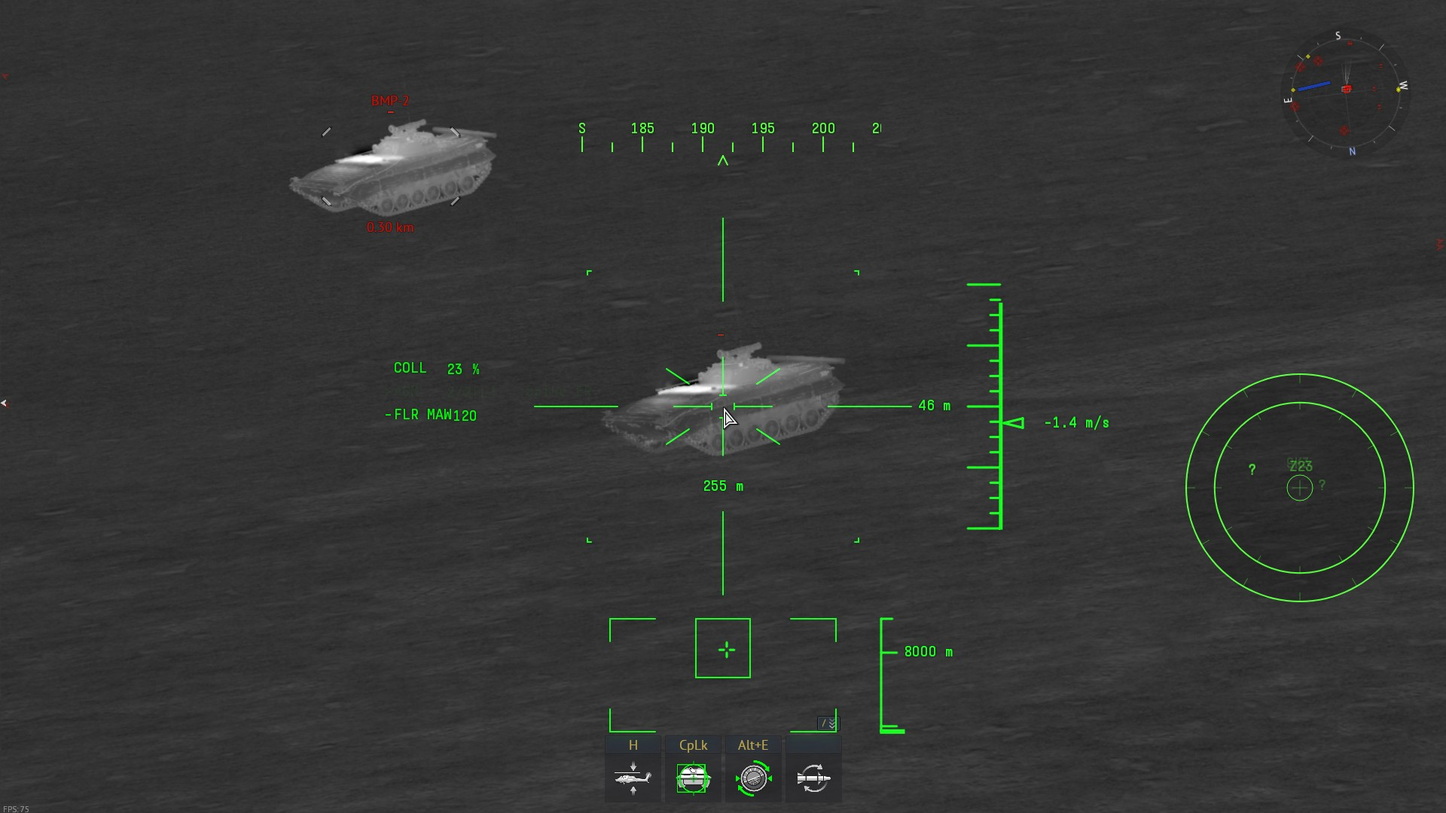bmp2: (603, 343, 846, 461), (289, 119, 497, 216)
